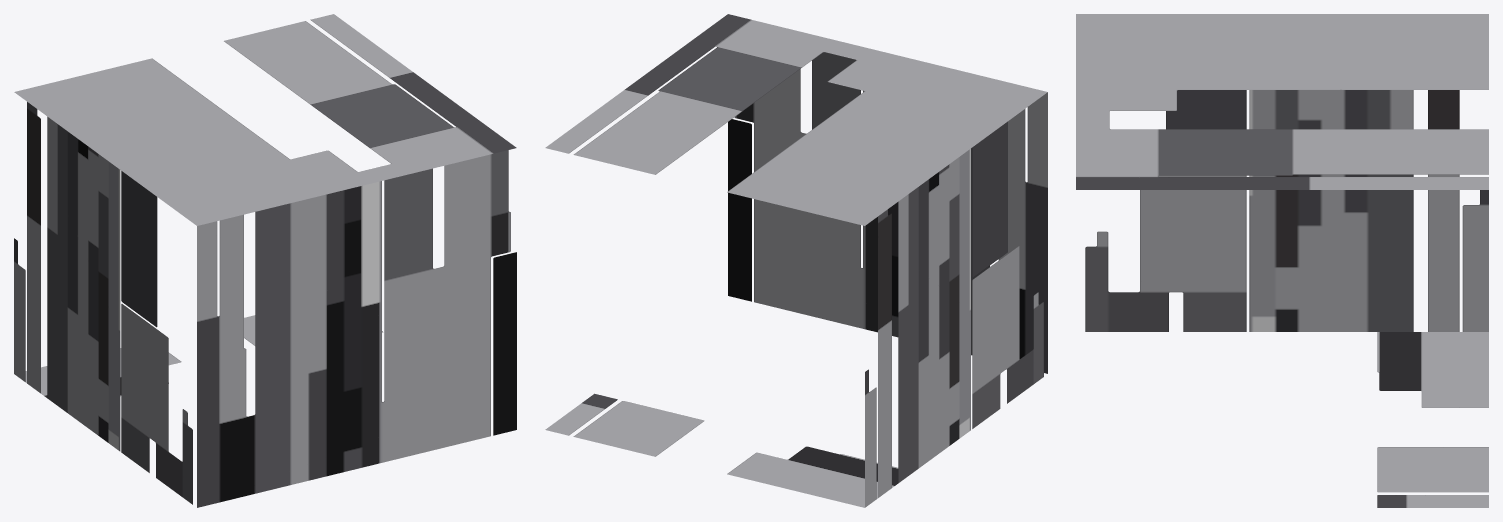
Rendered from section-6.obj.
The picture shows the model from 3 angles, left to right: view 1: azimuth 30°, elevation 25°; view 2: azimuth 150°, elevation 25°; view 3: azimuth 270°, elevation 25°; orthographic projection. The views are drawn at different scales.
Bounding box in the file's own units: 0.7611 × 0.6409 × 0.7544.
